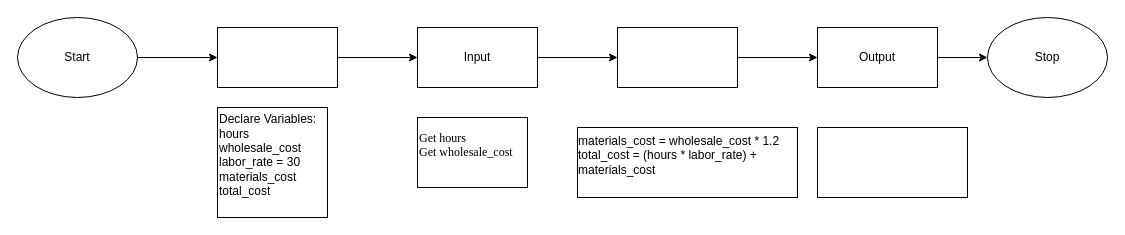
The diagram is 1125 pixels wide and 235 high, and some of its shapes have lost their labels. Each missing label, with the centre of its shape:
Display total_cost Display "End of program": (x=892, y=162)
Plan: (x=277, y=57)
Prcess: (x=677, y=57)
